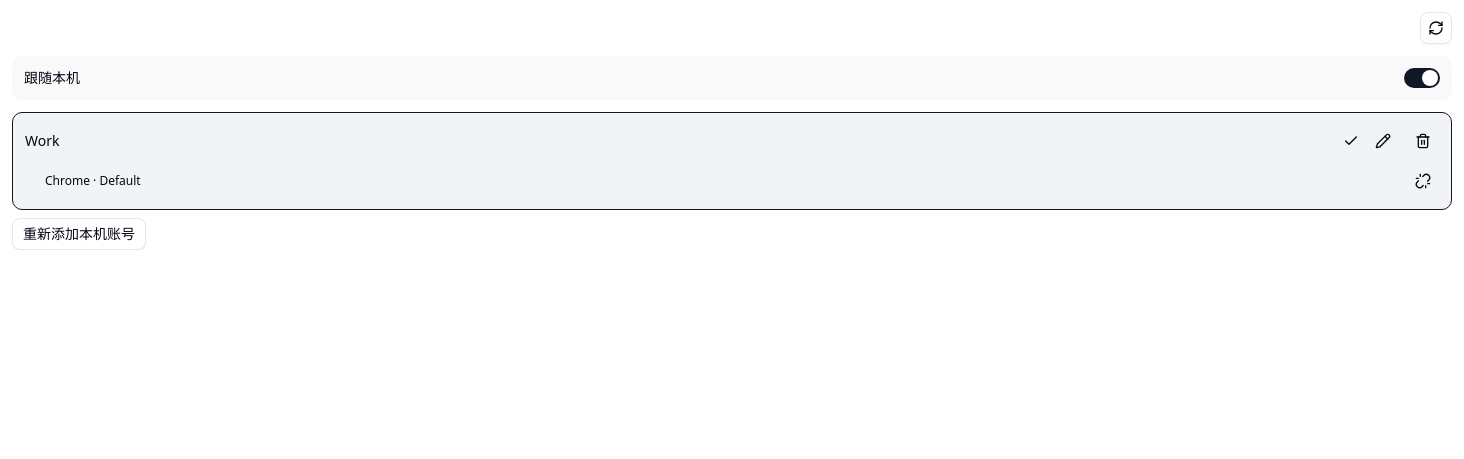
Account Management › retains the account and confirmation when removal fails
This screenshot has width=1464, height=459.
Expected: the radio button labelled "Work" is shown, [25,131,1359,151]
Step 1. Click the button named "移除 Work" → (1423, 141), box [1407,125,1439,157]
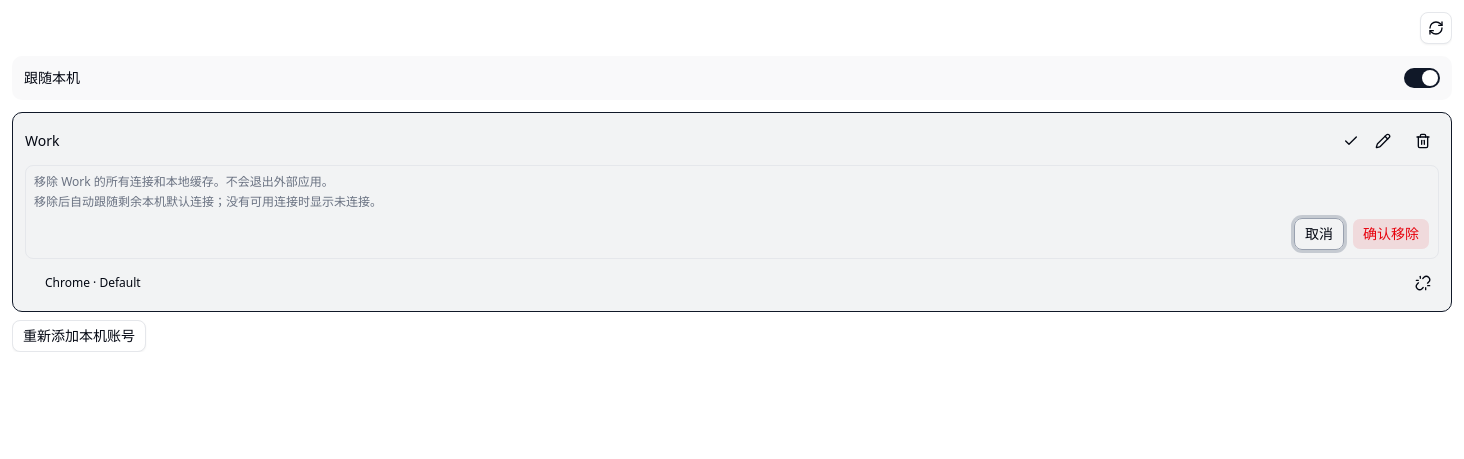
Step 2. Click the button "确认移除" → (1391, 234), box [1352,218,1430,250]
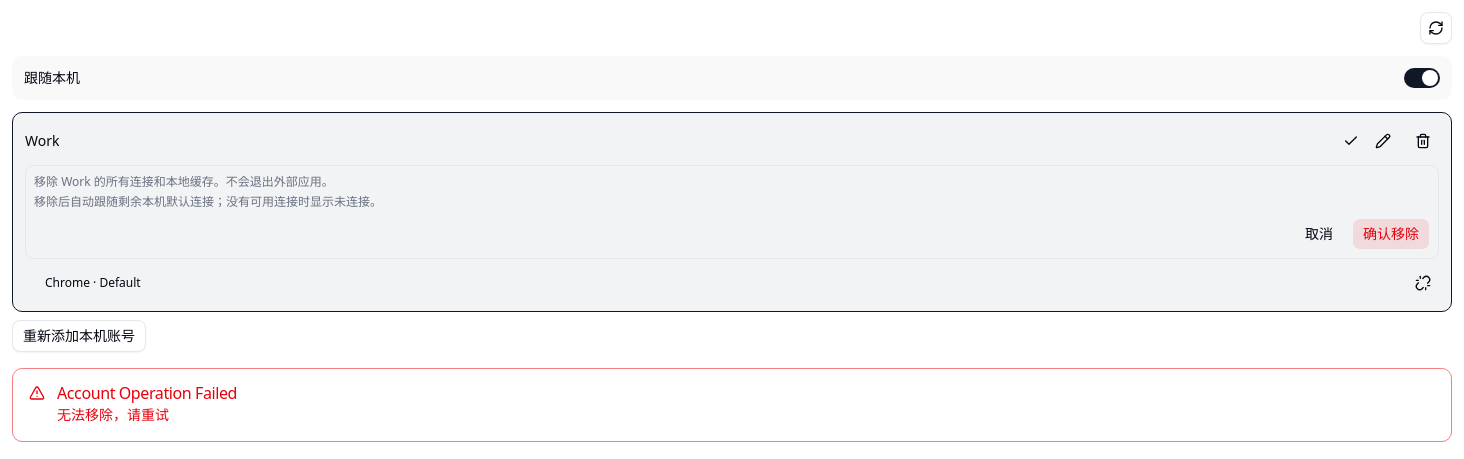
Expected: the button "确认移除" is enabled, [1352,218,1430,250]
Expected: the text "无法移除，请重试" is shown, [57,405,169,424]
